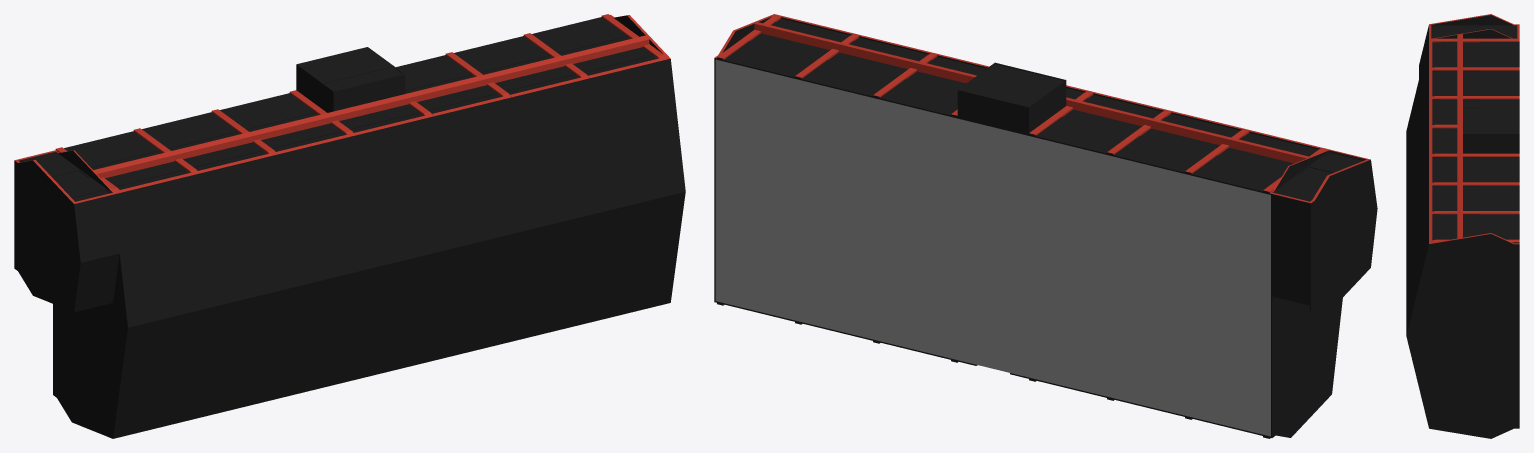
The model's file is Ingenieria civil v3.fbx.
3 views of the same model, side by side, from view 1: azimuth 30°, elevation 25°; view 2: azimuth 150°, elevation 25°; view 3: azimuth 270°, elevation 25° (orthographic). The views are drawn at different scales.
Visible parts, largest first — view 1: Body1; view 2: Body4, Body1; view 3: Body1.
Part boxes in pixels (<box>): Body1: <box>14,14,685,438</box>; Body4: <box>715,59,1270,436</box>; Body1: <box>714,14,1377,438</box>; Body1: <box>1406,14,1519,438</box>.
Bounding box in the file's own units: 46 × 21 × 10.
